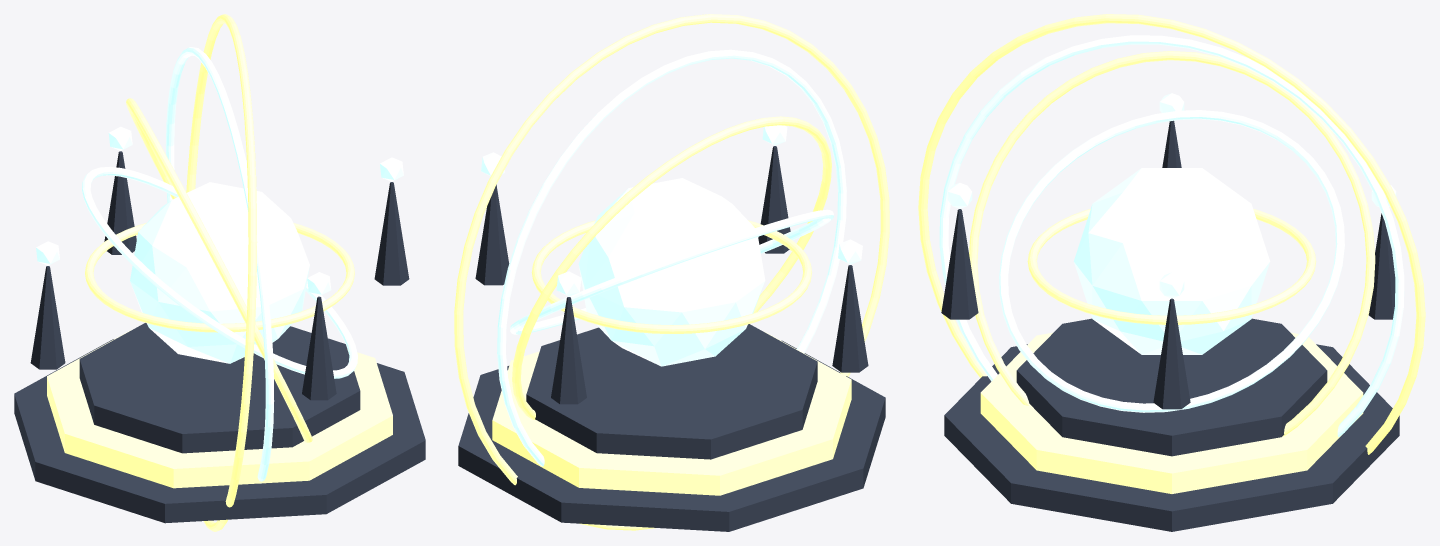
The model's file is gpu-blender-v2.glb.
3 views of the same model, side by side, from view 1: azimuth 30°, elevation 25°; view 2: azimuth 150°, elevation 25°; view 3: azimuth 270°, elevation 25° (orthographic). The views are drawn at different scales.
Parts seen in each view (by area): view 1: Cylinder.002, SovereignCore_agent-capsule-jail, Cylinder, Cylinder.001, Torus.004, Torus.003, Torus.001, Torus, Torus.002, Cone.003, Cone, Cone.002 (+1 smaller); view 2: Cylinder.002, SovereignCore_agent-capsule-jail, Cylinder, Cylinder.001, Torus.004, Torus.003, Torus.002, Torus, Torus.001, Cone.001, Cone.002, Cone (+1 smaller); view 3: SovereignCore_agent-capsule-jail, Cylinder.002, Cylinder, Cylinder.001, Torus.004, Torus.001, Torus.003, Torus.002, Torus, Cone, Cone.003, Cone.001 (+1 smaller).
Boxes of the visible parts, x1,y1,x2,y2 form: Cylinder.002: (79,323,360,453); SovereignCore_agent-capsule-jail: (130,182,309,363); Cylinder: (14,339,425,523); Cylinder.001: (47,330,392,488); Torus.004: (186,14,257,531); Torus.003: (165,47,274,483); Torus.001: (82,166,357,378); Torus: (85,223,354,332); Torus.002: (126,98,312,442); Cone.003: (302,296,336,400); Cone: (374,182,409,285); Cone.002: (30,266,65,369); Cylinder.002: (526,324,817,459); SovereignCore_agent-capsule-jail: (578,178,765,366); Cylinder: (458,340,885,531); Cylinder.001: (492,331,851,495); Torus.004: (454,14,889,530); Torus.003: (497,49,846,466); Torus.002: (512,116,831,419); Torus: (531,220,812,333); Torus.001: (510,209,833,334); Cone.001: (551,297,586,404); Cone.002: (832,265,868,372); Cone: (475,184,509,285); SovereignCore_agent-capsule-jail: (1073,168,1270,354); Cylinder.002: (1016,318,1327,456); Cylinder: (944,344,1399,531); Cylinder.001: (980,332,1363,493); Torus.004: (918,14,1425,454); Torus.001: (999,110,1344,412); Torus.003: (939,35,1404,437); Torus.002: (969,51,1375,435); Torus: (1027,209,1316,324); Cone: (1153,298,1190,409); Cone.003: (941,209,978,319); Cone.001: (1368,213,1395,319).
Bounding box in the file's own units: 4.41 × 5.33 × 4.9.
